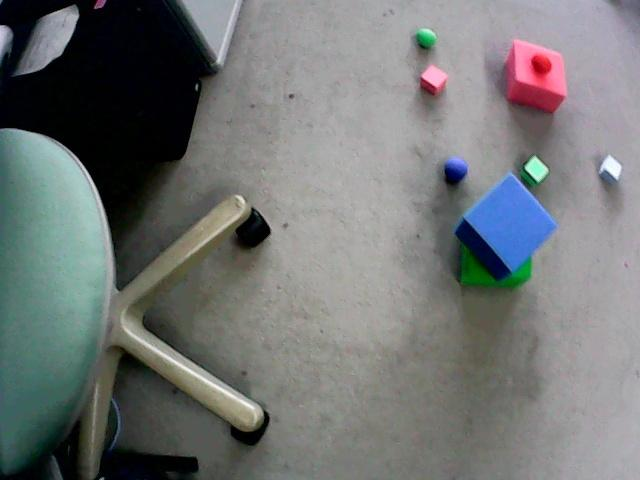blue_block: (455, 173, 556, 279), (599, 155, 621, 183), (600, 171, 617, 184)
red_block: (505, 39, 566, 112), (420, 65, 447, 94)
